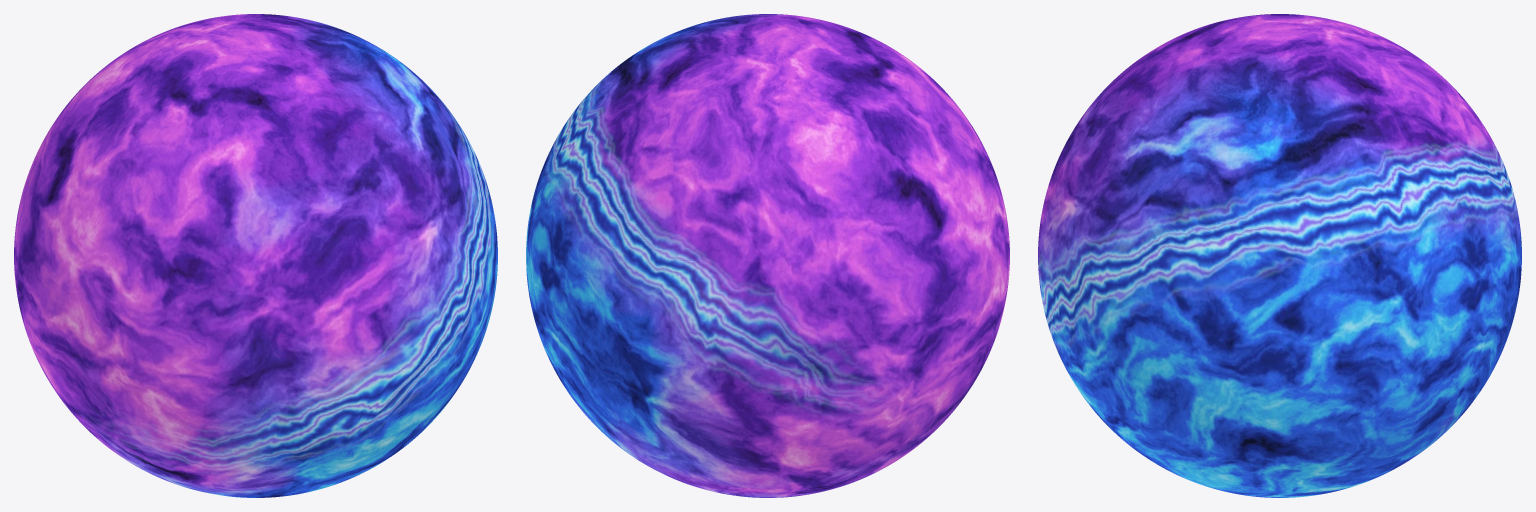
The model's file is Nebula_Planet.glb.
3 views of the same model, side by side, from view 1: azimuth 30°, elevation 25°; view 2: azimuth 150°, elevation 25°; view 3: azimuth 270°, elevation 25° (orthographic).
Parts seen in each view (by area): view 1: Planet_Web; view 2: Planet_Web; view 3: Planet_Web.
Boxes of the visible parts, <box> form: Planet_Web: <box>14,14,497,497</box>; Planet_Web: <box>526,14,1009,497</box>; Planet_Web: <box>1038,14,1521,497</box>.
Bounding box in the file's own units: 2 × 2 × 2.
1 material, 1 textured.
